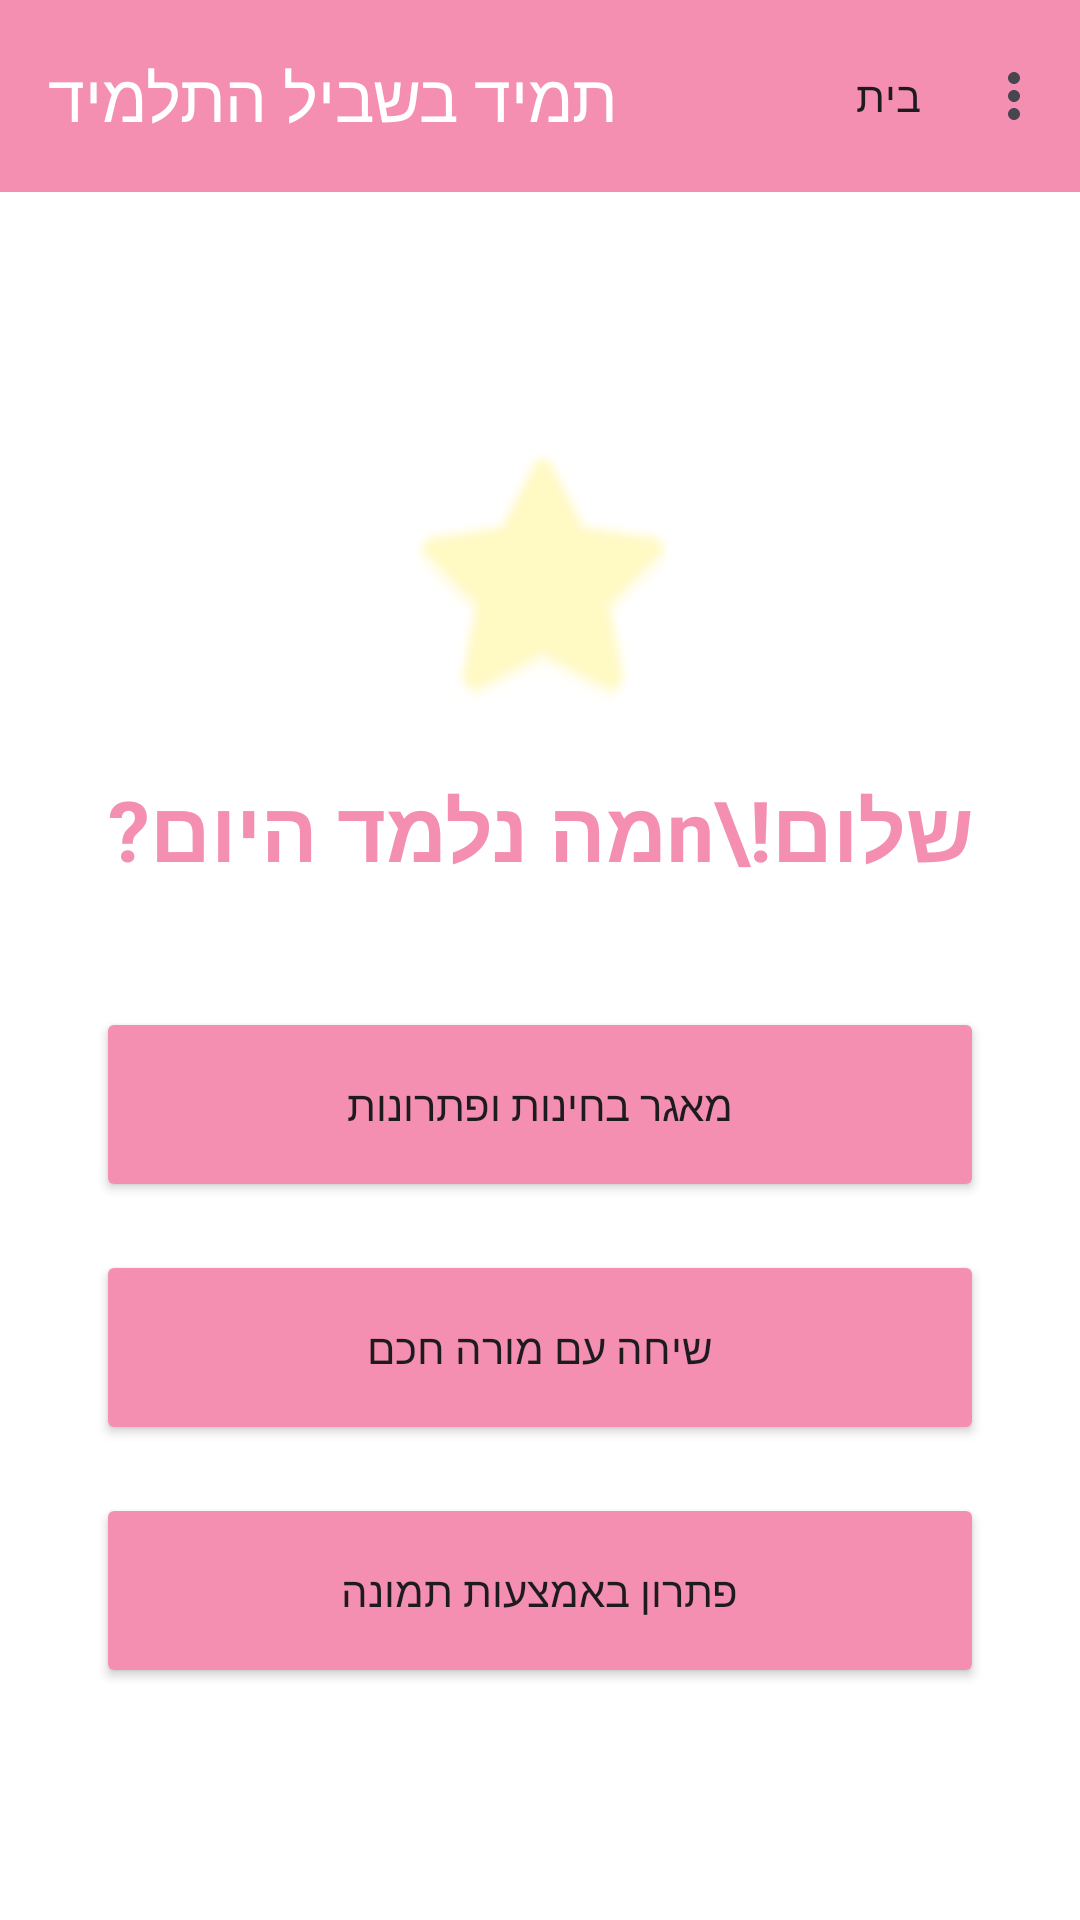

Screen size 1080px x 1920px. Icon name, then its box in pixels as Rect(x1, y1, x2, y2):
star on: Rect(422, 460, 663, 691)
